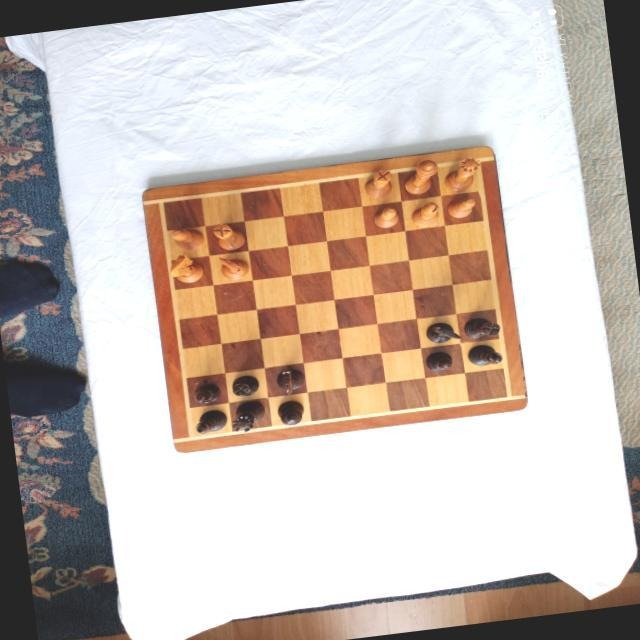black-bishop: (191, 407, 228, 435), (466, 342, 502, 368)
black-king: (274, 399, 305, 427)
black-knight: (423, 319, 461, 345), (273, 366, 306, 395)
black-pawn: (424, 348, 454, 371), (192, 382, 220, 405)
black-queen: (225, 399, 266, 433)
black-rook: (460, 313, 501, 340), (229, 373, 259, 398)
white-bishop: (167, 224, 204, 251), (408, 200, 440, 227)
white-king: (399, 158, 441, 194)
white-knight: (164, 251, 203, 285), (215, 253, 248, 280)
white-pawn: (444, 193, 476, 218), (370, 204, 400, 229)
white-queen: (440, 154, 484, 193)
white-rook: (211, 220, 245, 252), (362, 167, 394, 200)
